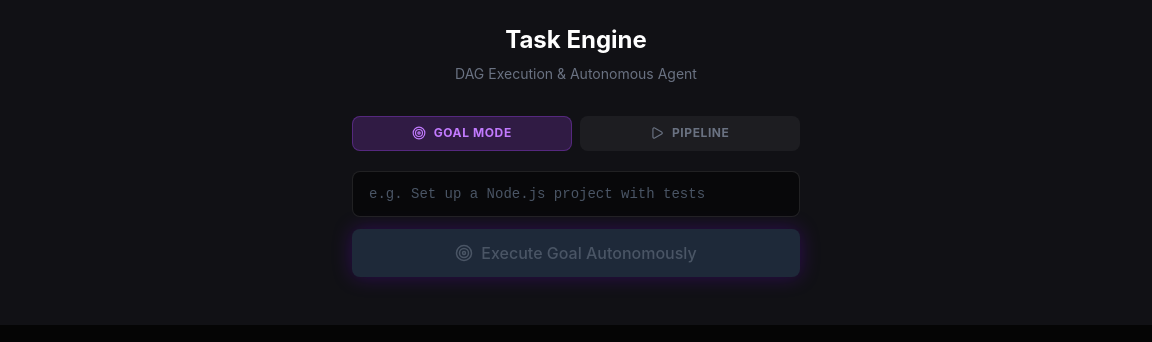
Test: TaskRunnerApp › switches to Pipeline mode
The image size is (1152, 342).
What coordinates should you click on to do the following:
click the button "Pipeline"
I would click on:
 (690, 133)
Its box is [580,116,800,151].
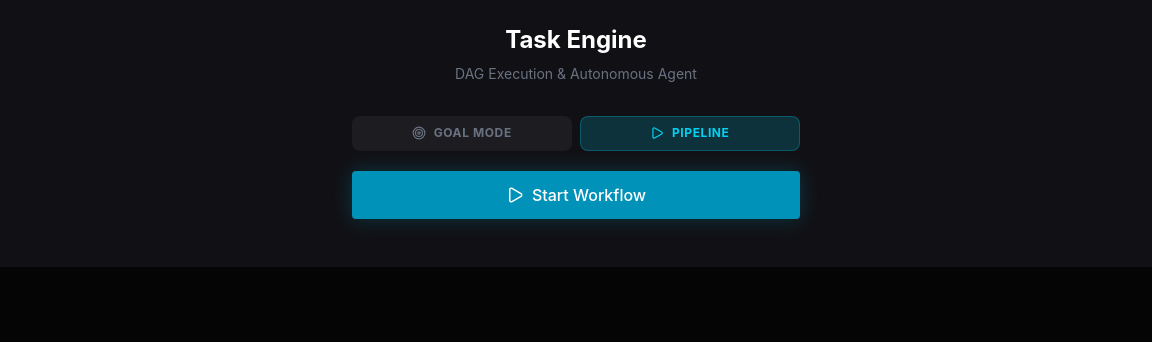
Expected: the button "Start Workflow" is shown, [352,171,800,219]
